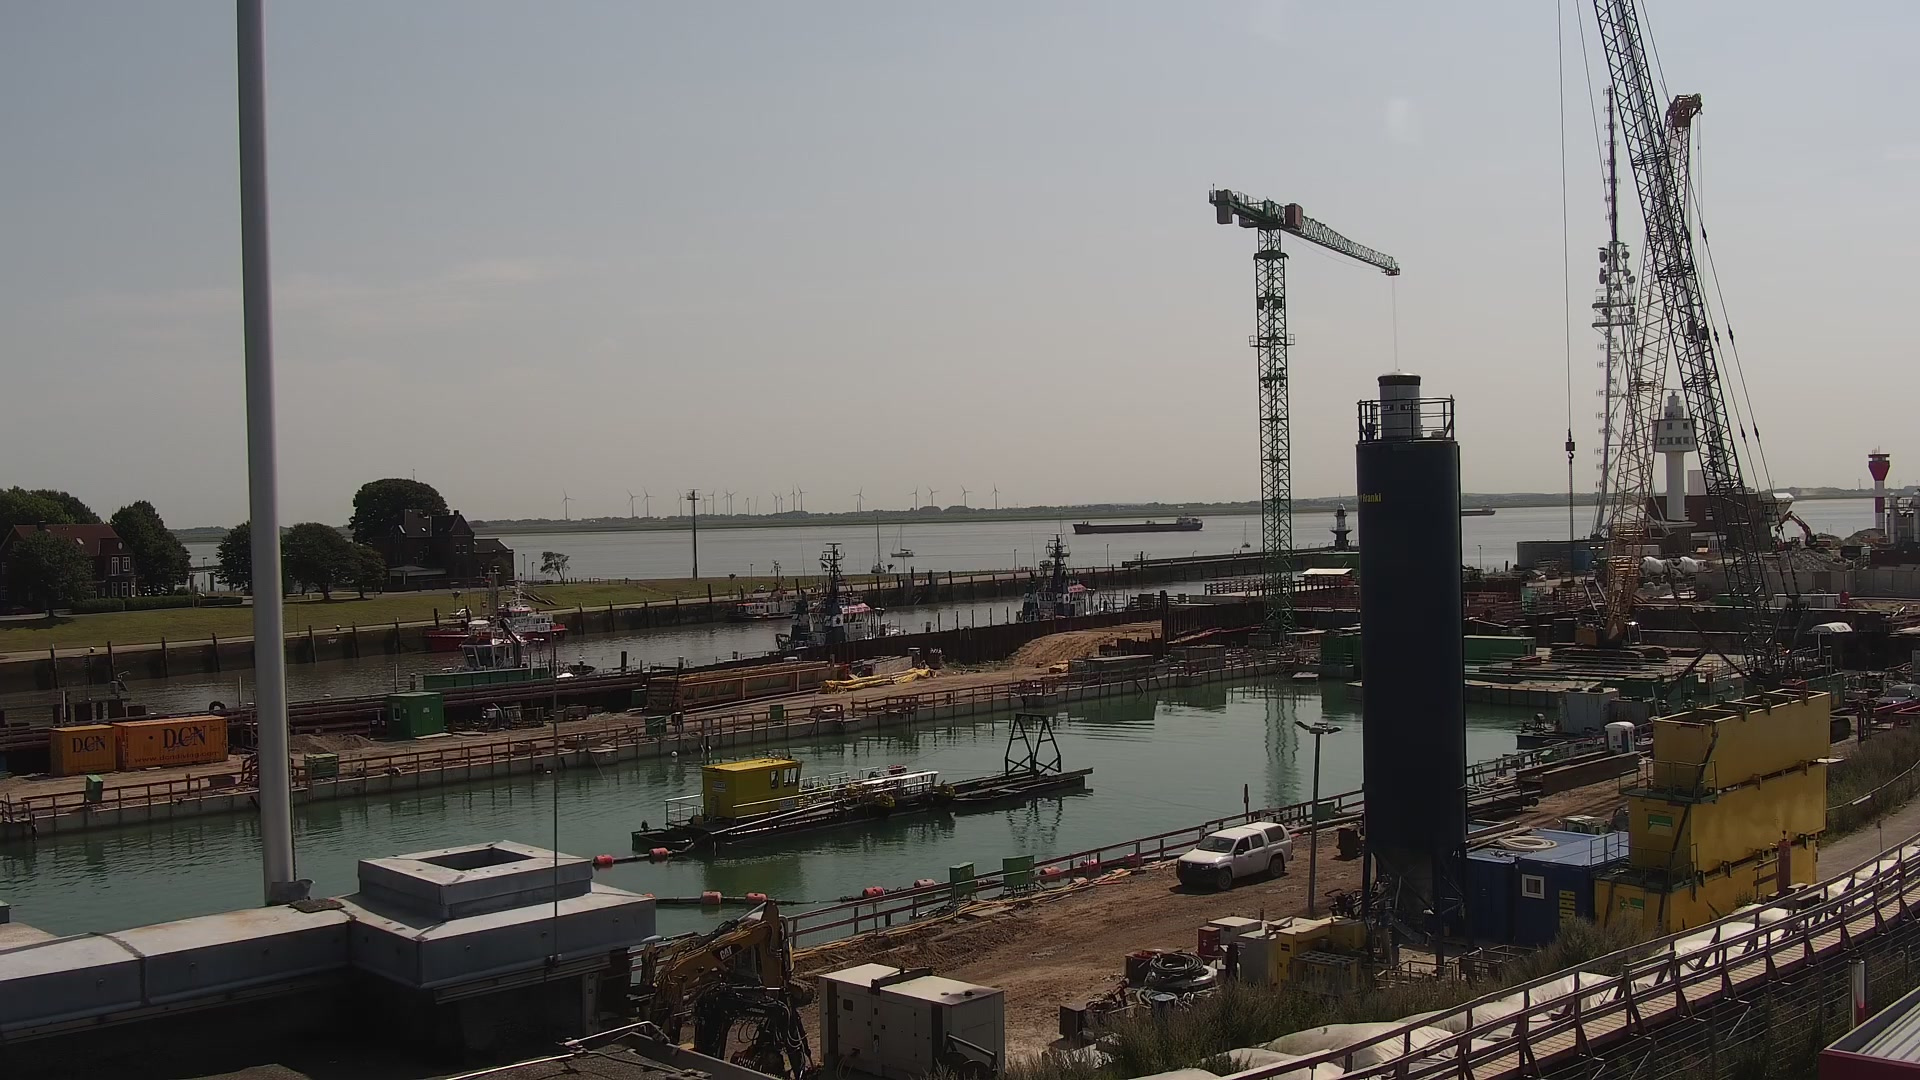land: (1174, 819, 1295, 891)
sea: (767, 539, 902, 650), (419, 579, 568, 647), (1011, 531, 1104, 624), (728, 558, 795, 622), (1071, 512, 1205, 533), (869, 513, 887, 575), (889, 522, 915, 558), (1456, 502, 1497, 516), (1240, 520, 1251, 549)
